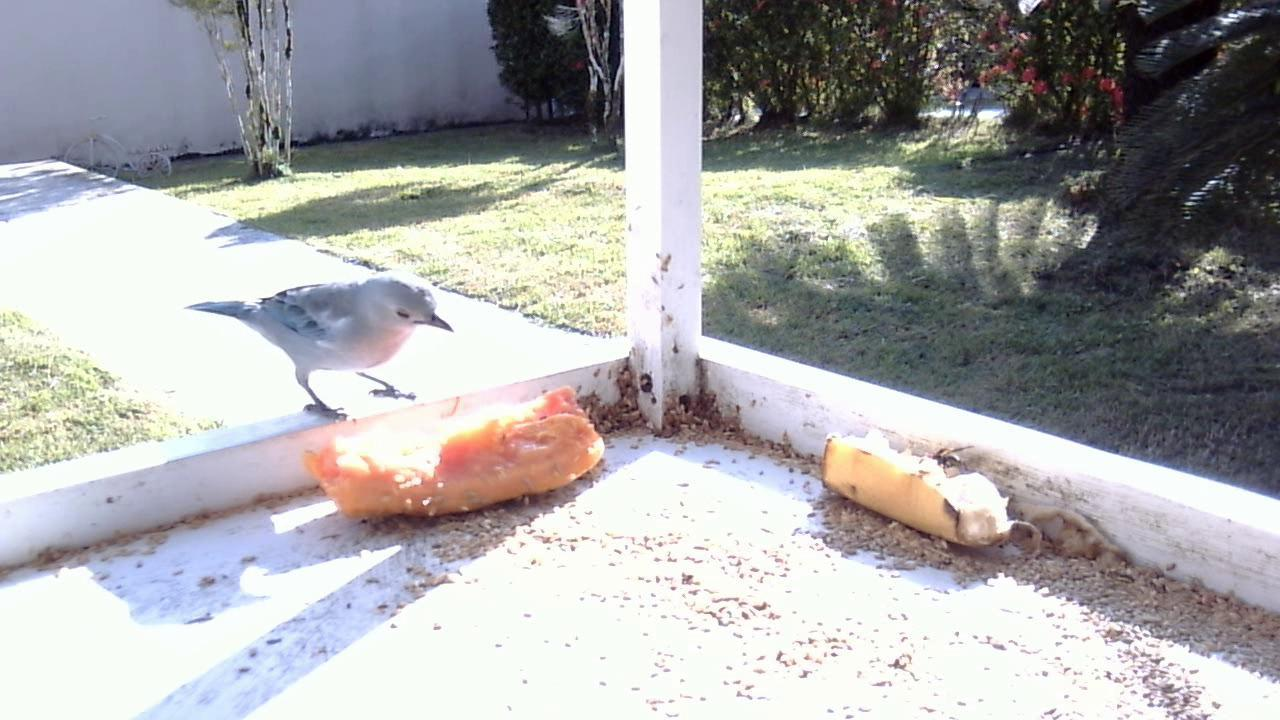sanhaco_da_amazonia: (174, 252, 457, 431)
